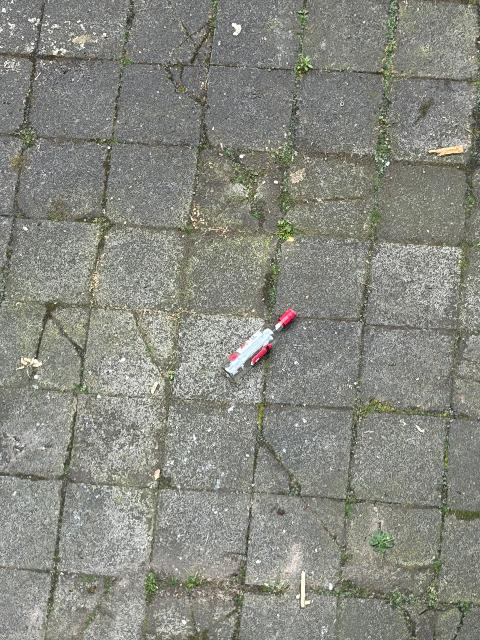glass_bottle: (222, 309, 297, 384)
